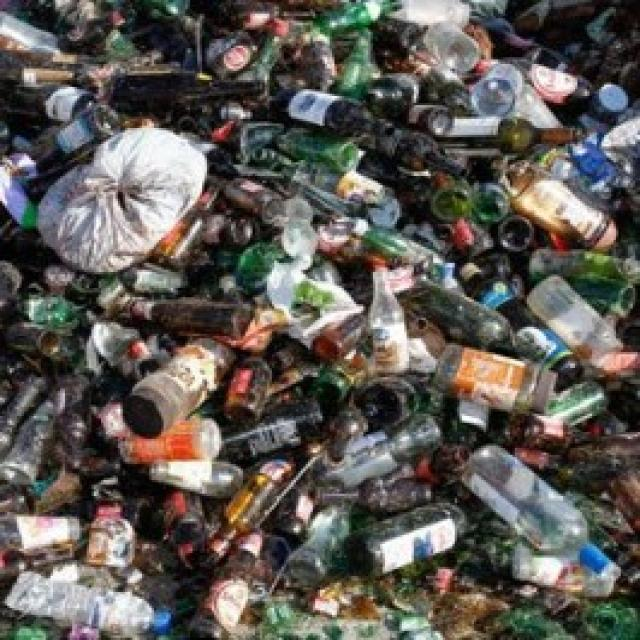electronic: (122, 331, 240, 441), (424, 338, 559, 421), (269, 83, 372, 140), (205, 15, 276, 86), (421, 18, 488, 74)
